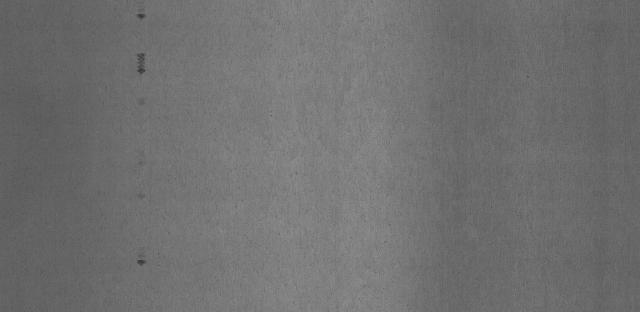oil_spot: (132, 49, 147, 79), (134, 250, 149, 266), (135, 188, 149, 203), (135, 5, 148, 20), (136, 94, 148, 108)
